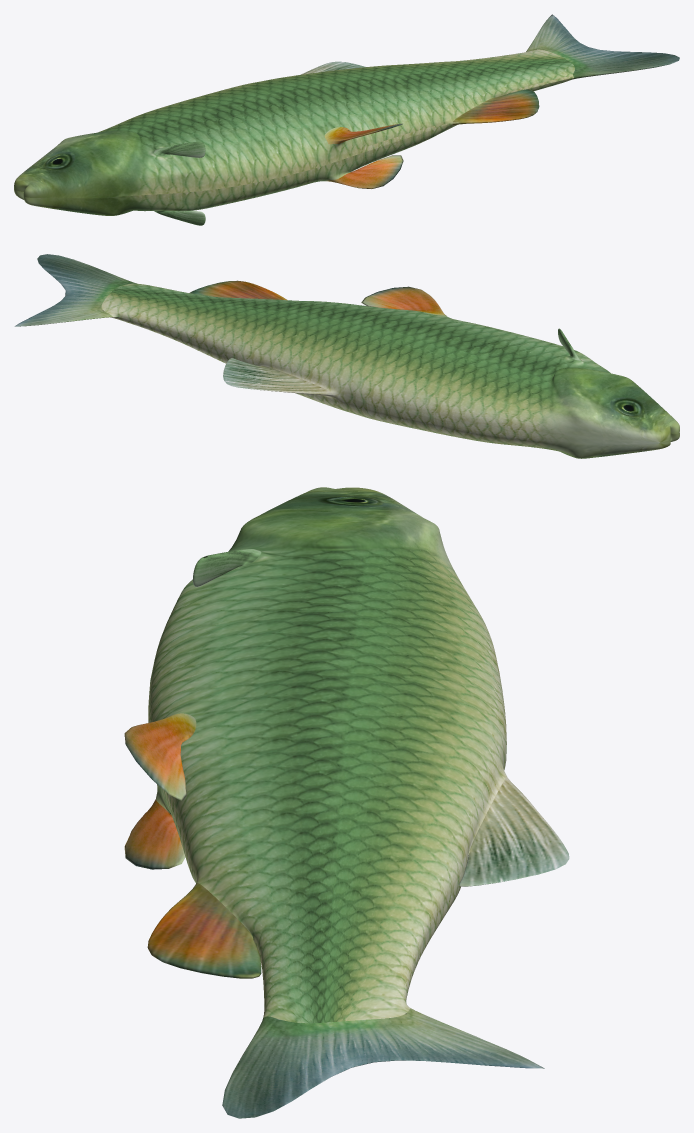
File: Rotfeder.glb
The picture shows the model from 3 angles, top to bottom: view 1: azimuth 30°, elevation 25°; view 2: azimuth 150°, elevation 25°; view 3: azimuth 270°, elevation 25°; orthographic projection. The views are drawn at different scales.
Parts seen in each view (by area): view 1: forelle02_sd_18_toPoly08:polySurface11; view 2: forelle02_sd_18_toPoly08:polySurface11; view 3: forelle02_sd_18_toPoly08:polySurface11.
Boxes of the visible parts, box(x1,y1,x2,y2) form: forelle02_sd_18_toPoly08:polySurface11: box(14, 14, 679, 225); forelle02_sd_18_toPoly08:polySurface11: box(14, 254, 679, 458); forelle02_sd_18_toPoly08:polySurface11: box(124, 487, 569, 1118).
Bounding box in the file's own units: 21.09 × 2.67 × 6.41.
1 material, 1 textured.
